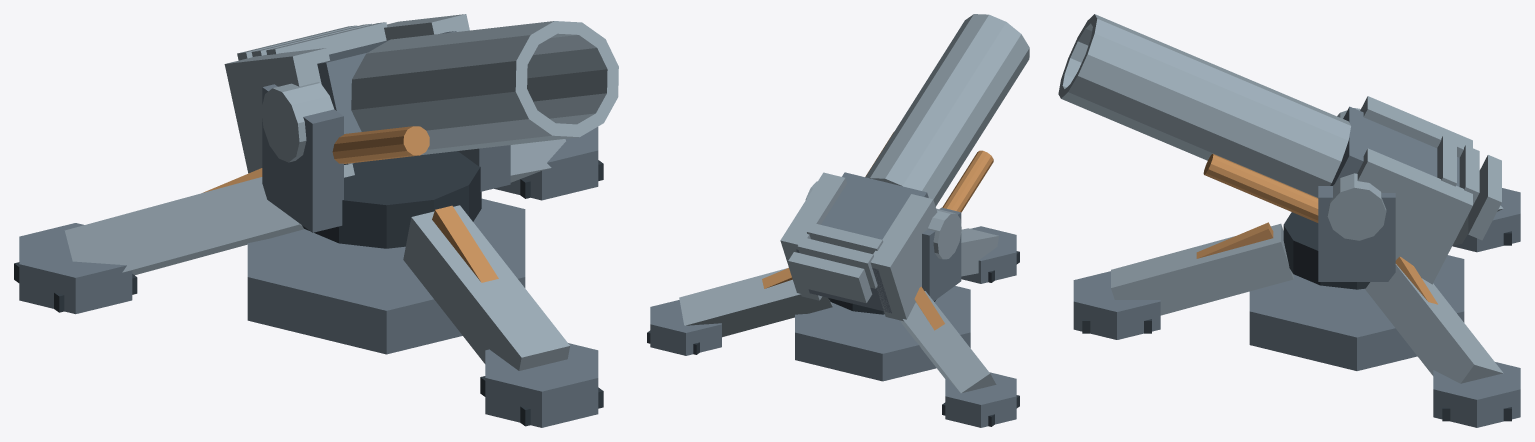
The model's file is howitzer_t2.glb.
The picture shows the model from 3 angles, left to right: view 1: azimuth 30°, elevation 25°; view 2: azimuth 150°, elevation 25°; view 3: azimuth 270°, elevation 25°; orthographic projection. The views are drawn at different scales.
Parts seen in each view (by area): view 1: Siege barrel wall, Heavy stabilizer armor (×3), Ground plinth, Ground shoe (×3), Bearing, Cradle (×2), Breech cheek (×2), Elevation motor, Recoil absorber, Breech, Hydraulic strut armor, Capacitor; view 2: Siege barrel wall, Heavy stabilizer armor (×3), Ground plinth, Breech cheek (×2), Ground shoe (×3), Capacitor (×3), Breech, Cradle, Recoil absorber, Elevation motor, Hydraulic strut armor; view 3: Siege barrel wall, Heavy stabilizer armor (×2), Ground plinth, Breech cheek (×2), Ground shoe (×3), Cradle, Capacitor (×3), Breech, Elevation motor, Recoil absorber, Bearing, Hydraulic strut armor (×2).
Boxes of the visible parts, x1,y1,x2,y2 form: Siege barrel wall: (351, 21, 618, 154); Heavy stabilizer armor (×3): (64, 139, 569, 370); Ground plinth: (247, 198, 525, 354); Ground shoe (×3): (19, 127, 598, 427); Bearing: (302, 151, 481, 248); Cradle (×2): (262, 84, 510, 232); Breech cheek (×2): (224, 14, 469, 177); Elevation motor: (261, 82, 333, 162); Recoil absorber: (332, 126, 429, 163); Breech: (317, 31, 456, 164); Hydraulic strut armor: (432, 205, 498, 282); Capacitor: (266, 22, 387, 54); Siege barrel wall: (865, 14, 1029, 206); Heavy stabilizer armor (×3): (679, 228, 998, 393); Ground plinth: (795, 286, 970, 381); Breech cheek (×2): (780, 172, 937, 321); Ground shoe (×3): (650, 226, 1016, 427); Capacitor (×3): (788, 223, 883, 303); Breech: (796, 172, 928, 313); Cradle: (922, 207, 961, 300); Recoil absorber: (942, 150, 993, 212); Elevation motor: (927, 208, 961, 259); Hydraulic strut armor: (914, 286, 944, 330); Siege barrel wall: (1058, 14, 1350, 197); Heavy stabilizer armor (×2): (1111, 223, 1503, 383); Ground plinth: (1249, 255, 1464, 370); Breech cheek (×2): (1357, 96, 1472, 284); Ground shoe (×3): (1073, 188, 1520, 427); Cradle: (1318, 186, 1395, 281); Capacitor (×3): (1437, 136, 1501, 240); Breech: (1330, 106, 1459, 186); Elevation motor: (1327, 173, 1386, 240); Recoil absorber: (1203, 154, 1318, 222); Bearing: (1283, 212, 1369, 289); Hydraulic strut armor (×2): (1196, 222, 1437, 304).
Size of the model in its own units: 3.33 by 2.17 by 2.99.
